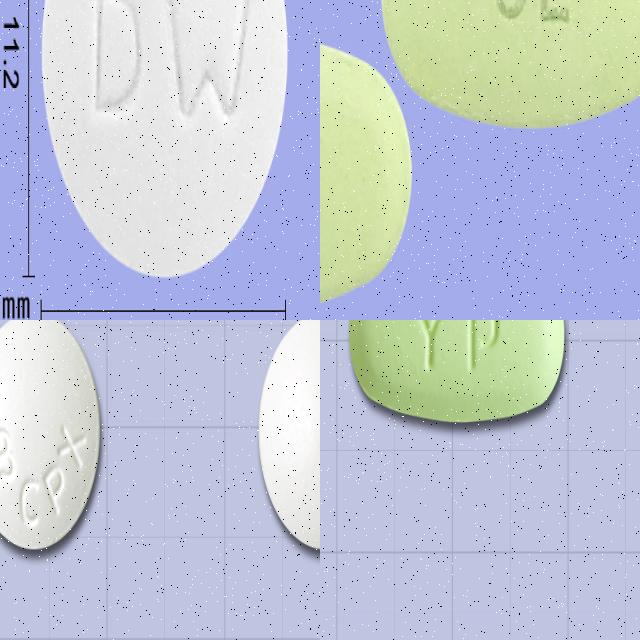Ciplus: (37, 0, 293, 286)
Ciprofloxacin Tab- Mirae: (0, 320, 103, 554), (256, 320, 320, 552)
Clarithromycin Tab- Youngpoong: (348, 320, 566, 426)
Clathron - 500mg: (380, 0, 640, 127), (320, 32, 414, 318)
